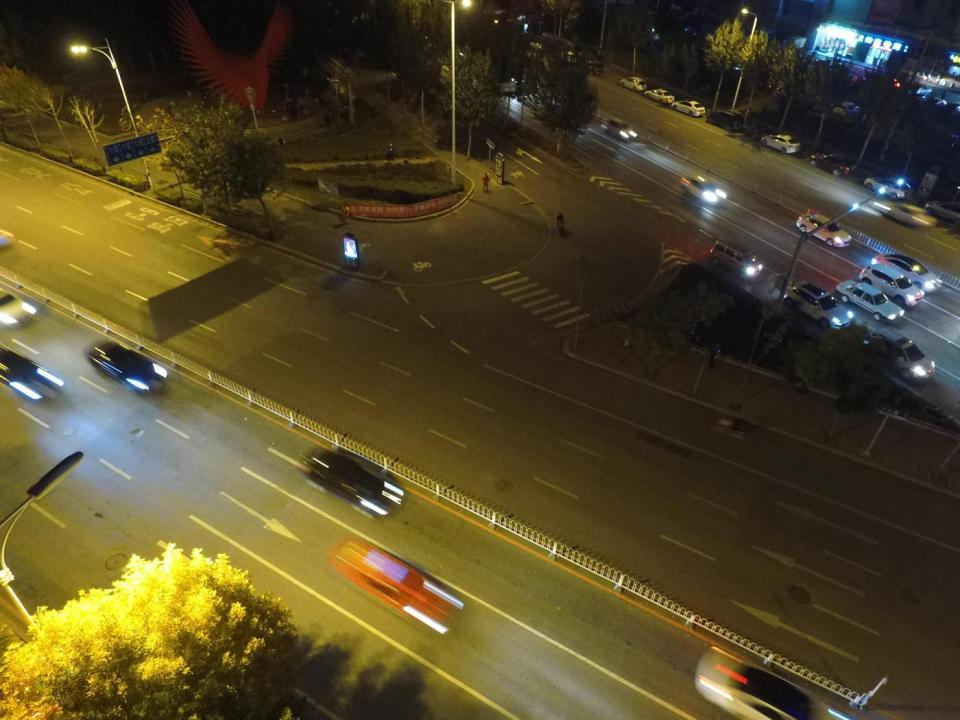car: (324, 534, 472, 640), (692, 642, 846, 720), (304, 446, 406, 518), (84, 338, 176, 394), (861, 324, 936, 386), (784, 278, 854, 332), (0, 344, 60, 401), (832, 277, 904, 322), (870, 252, 942, 294), (858, 261, 925, 306), (876, 195, 938, 232), (795, 212, 853, 248), (0, 287, 44, 334), (862, 172, 919, 202), (680, 173, 728, 206), (808, 149, 858, 177), (926, 191, 960, 225), (706, 107, 744, 132), (830, 96, 866, 121), (602, 120, 639, 144), (759, 134, 802, 154), (642, 85, 678, 105), (672, 97, 706, 117), (576, 56, 606, 76), (619, 73, 648, 92), (559, 44, 581, 64), (530, 38, 552, 55), (745, 106, 752, 126)
van: (709, 235, 764, 278)
